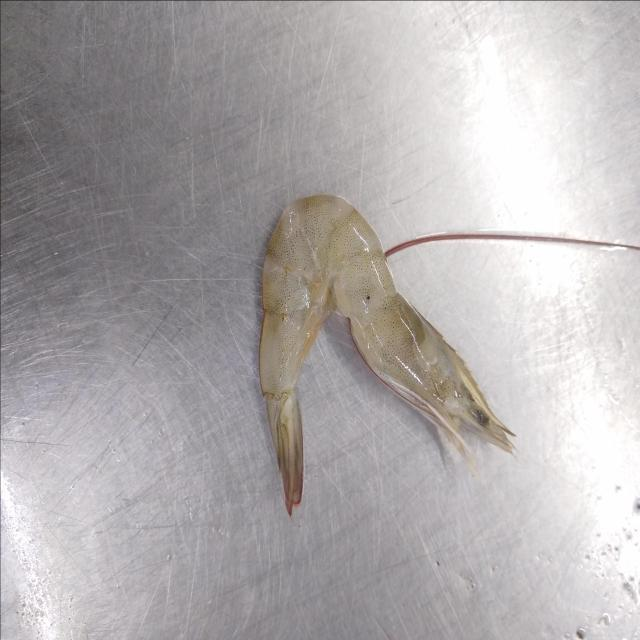shrimp: (259, 195, 514, 514)
